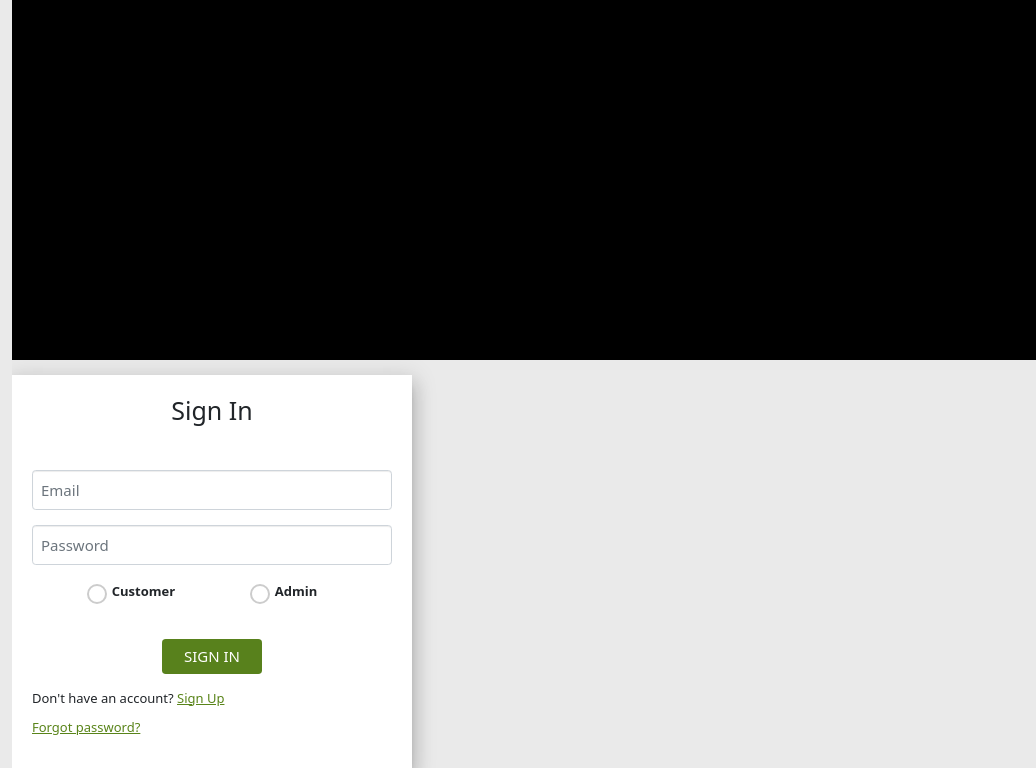
it: Login Functionality › Displays an error message for invalid credentials
(page scrolled)
Type "invalid@gmail.com" into the field with test id "email-login" at (212, 490), box [32, 470, 392, 510]
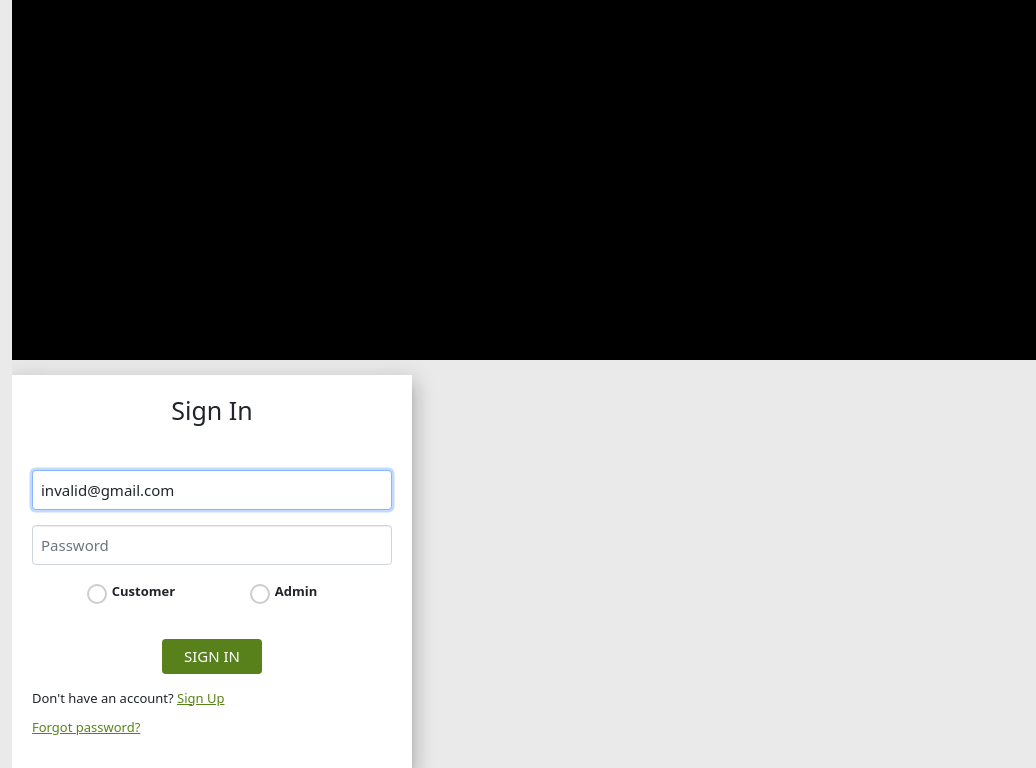
Type "password" into the password field with test id "password-login" at (212, 545), box [32, 525, 392, 565]
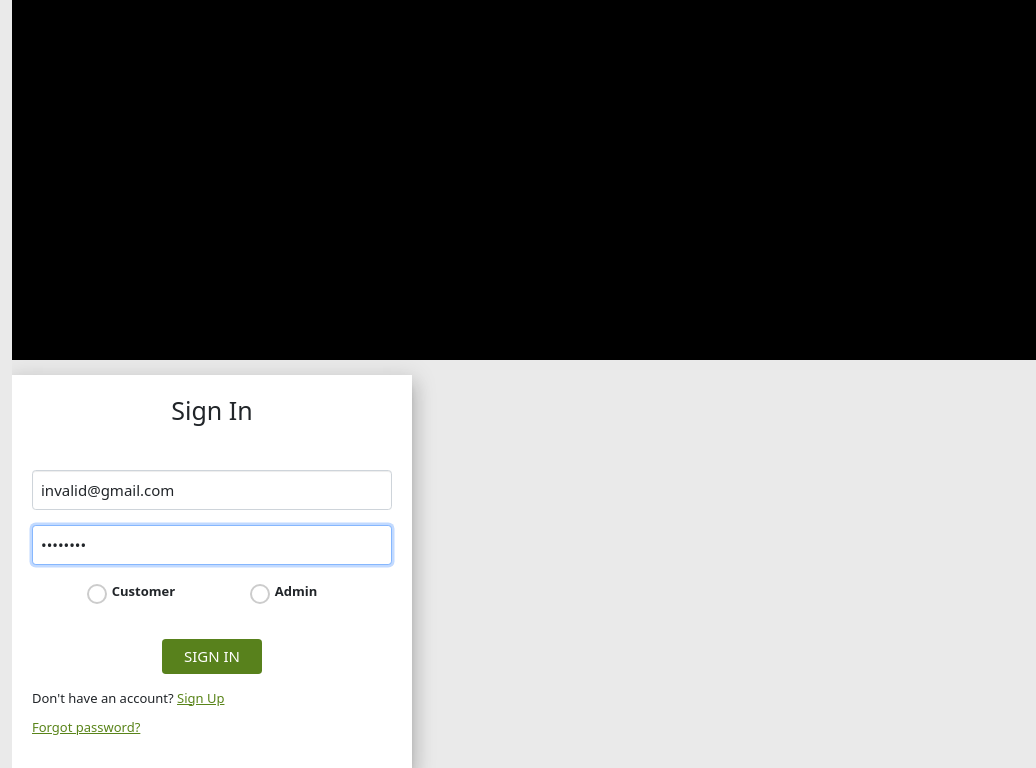
Check the radio button with test id "customer-radio" at (97, 594), box [87, 584, 107, 604]
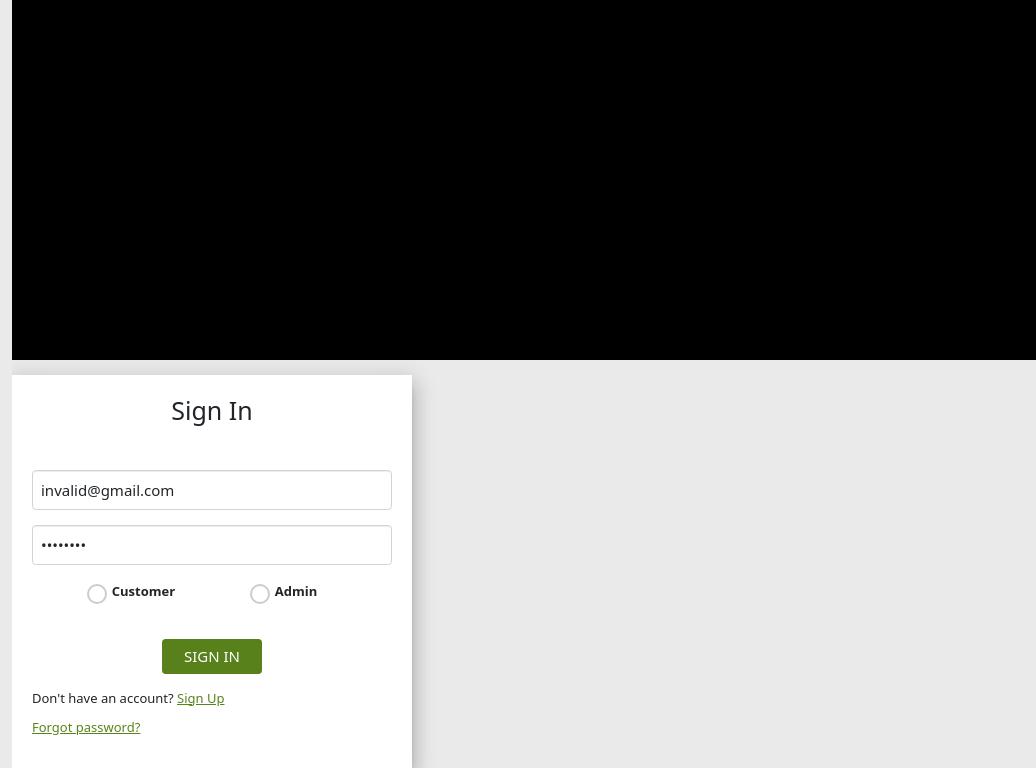
Click the button with test id "login-button" at (212, 657), box [162, 639, 262, 674]
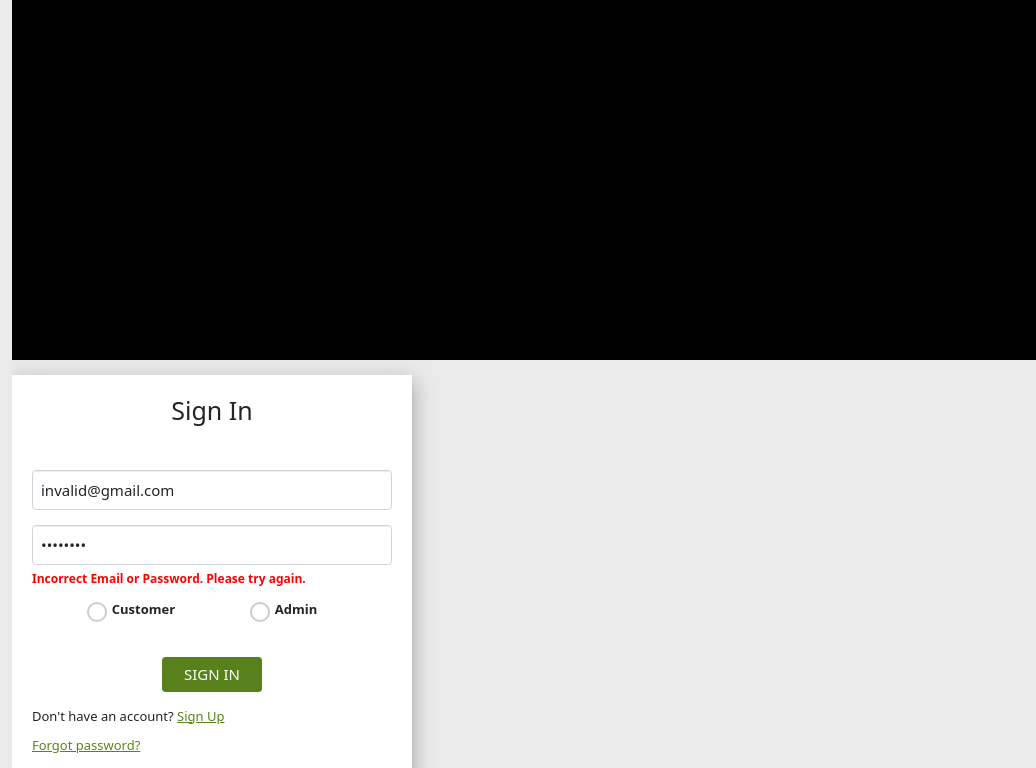
Now the text "Incorrect Email or Password. Please try again." is shown, box [32, 570, 306, 587]
